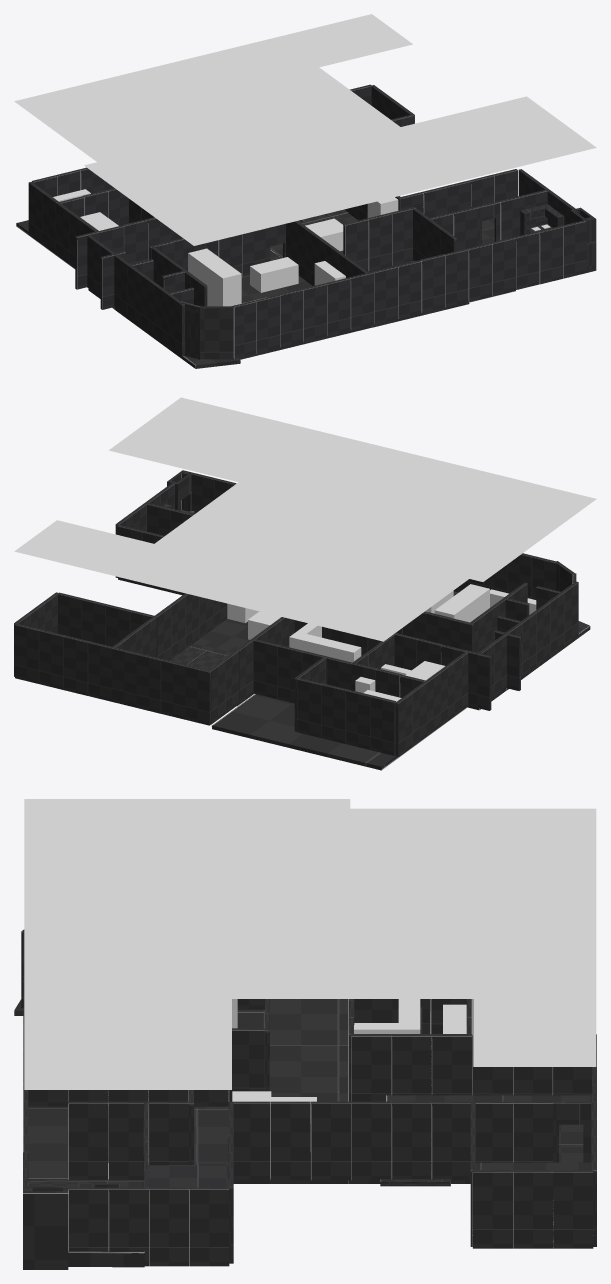
Rendered from DHF2UnfinishedFix01V2.fbx.
3 renders of one model, top to bottom at view 1: azimuth 30°, elevation 25°; view 2: azimuth 150°, elevation 25°; view 3: azimuth 270°, elevation 25°, orthographic. The views are drawn at different scales.
Parts seen in each view (by area): view 1: Plane, Pop.057, WallForModular.007, Pop.055, Win.057, 50MWall.182, 50MWall.127, 50MWall.207, Win.061, Win.042, Win.049, 50MWall.185 (+51 smaller); view 2: Plane, Floor.032, Win.038, Win.032, Win.022, Win.056, 50MWall.169, Win.041, 50MWall.170, Win.039, 50MWall.162, Win.054 (+42 smaller); view 3: Plane, Floor.031, 50MWall.212, 50MWall.177, 50MWall.180, 50MWall.200, 50MWall.176, 50MWall.105, 50MWall.129, 50MWall.206, 50MWall.193, 50MWall.058 (+28 smaller).
Part boxes in pixels (bbox=[...]): Plane: bbox=[14, 14, 596, 245]; Pop.057: bbox=[188, 248, 241, 306]; WallForModular.007: bbox=[200, 306, 234, 359]; Pop.055: bbox=[250, 257, 298, 292]; Win.057: bbox=[467, 243, 492, 301]; 50MWall.182: bbox=[538, 225, 563, 284]; 50MWall.127: bbox=[349, 271, 374, 330]; 50MWall.207: bbox=[367, 212, 392, 271]; Win.061: bbox=[420, 254, 444, 312]; Win.042: bbox=[278, 288, 303, 347]; Win.049: bbox=[325, 277, 350, 336]; 50MWall.185: bbox=[491, 237, 515, 295]; Plane: bbox=[14, 397, 596, 641]; Floor.032: bbox=[211, 694, 467, 770]; Win.038: bbox=[370, 695, 396, 755]; Win.032: bbox=[185, 665, 210, 725]; Win.022: bbox=[345, 689, 371, 749]; Win.056: bbox=[112, 647, 137, 707]; 50MWall.169: bbox=[63, 635, 89, 695]; Win.041: bbox=[161, 659, 186, 719]; 50MWall.170: bbox=[39, 629, 64, 689]; Win.039: bbox=[321, 683, 346, 743]; 50MWall.162: bbox=[136, 653, 161, 713]; Win.054: bbox=[88, 641, 113, 701]; Plane: bbox=[24, 799, 596, 1089]; Floor.031: bbox=[269, 999, 348, 1101]; 50MWall.212: bbox=[23, 1185, 68, 1269]; 50MWall.177: bbox=[270, 1101, 310, 1180]; 50MWall.180: bbox=[189, 1187, 229, 1266]; 50MWall.200: bbox=[311, 1101, 351, 1180]; 50MWall.176: bbox=[351, 1101, 391, 1180]; 50MWall.105: bbox=[472, 1170, 512, 1248]; 50MWall.129: bbox=[553, 1170, 593, 1248]; 50MWall.206: bbox=[68, 1101, 108, 1179]; 50MWall.193: bbox=[391, 1101, 431, 1179]; 50MWall.058: bbox=[513, 1170, 553, 1248].
Bounding box in the file's own units: 4423 × 1288 × 3665.
